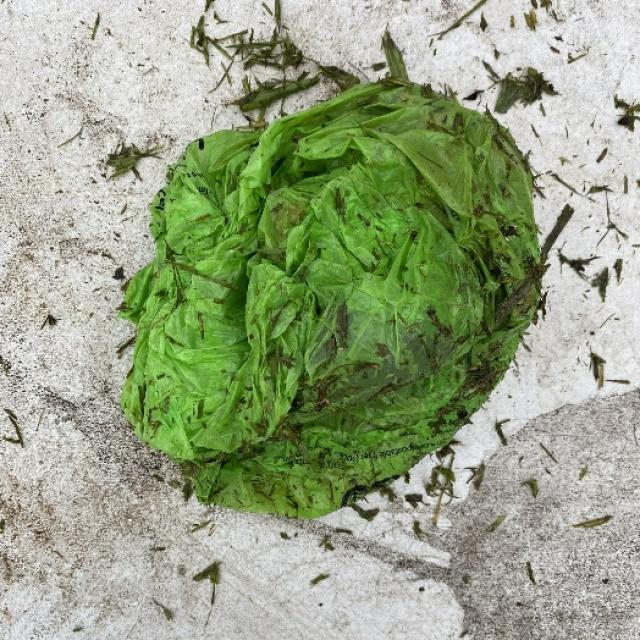inorganic: (190, 450, 354, 519)
organic: (187, 0, 241, 67)
